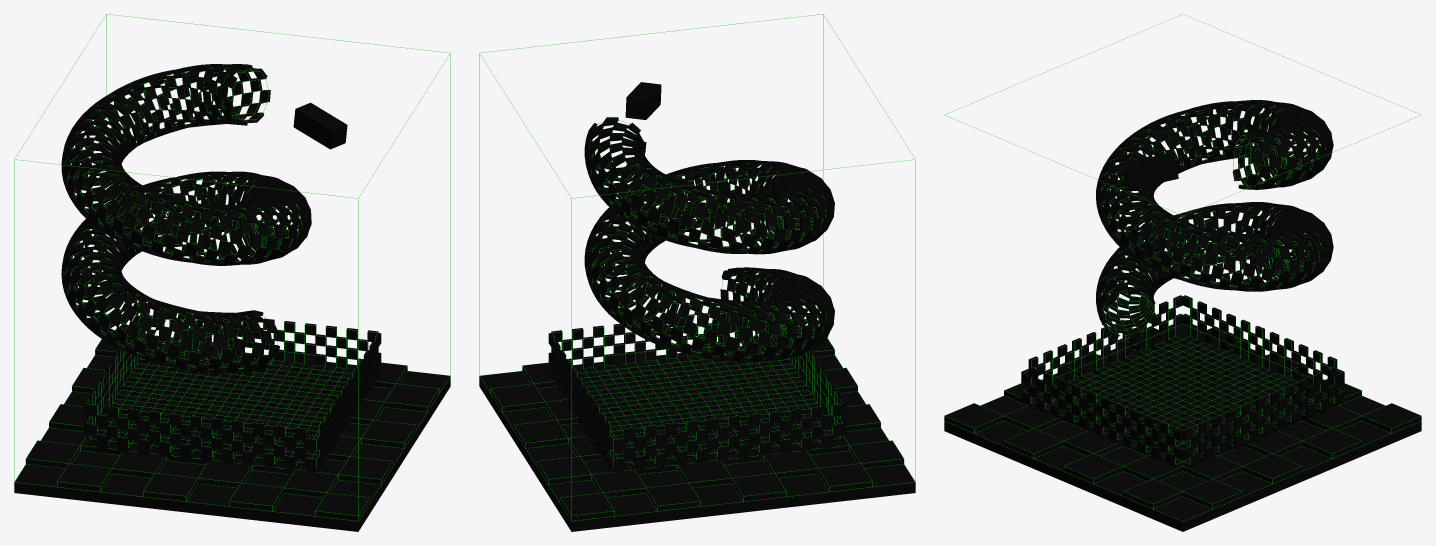
Rendered from slide.glb.
3 views of the same model, side by side, from view 1: azimuth 30°, elevation 25°; view 2: azimuth 150°, elevation 25°; view 3: azimuth 270°, elevation 25° (orthographic). The views are drawn at different scales.
Bounding box in the file's own units: 21.23 × 15.63 × 21.23.
